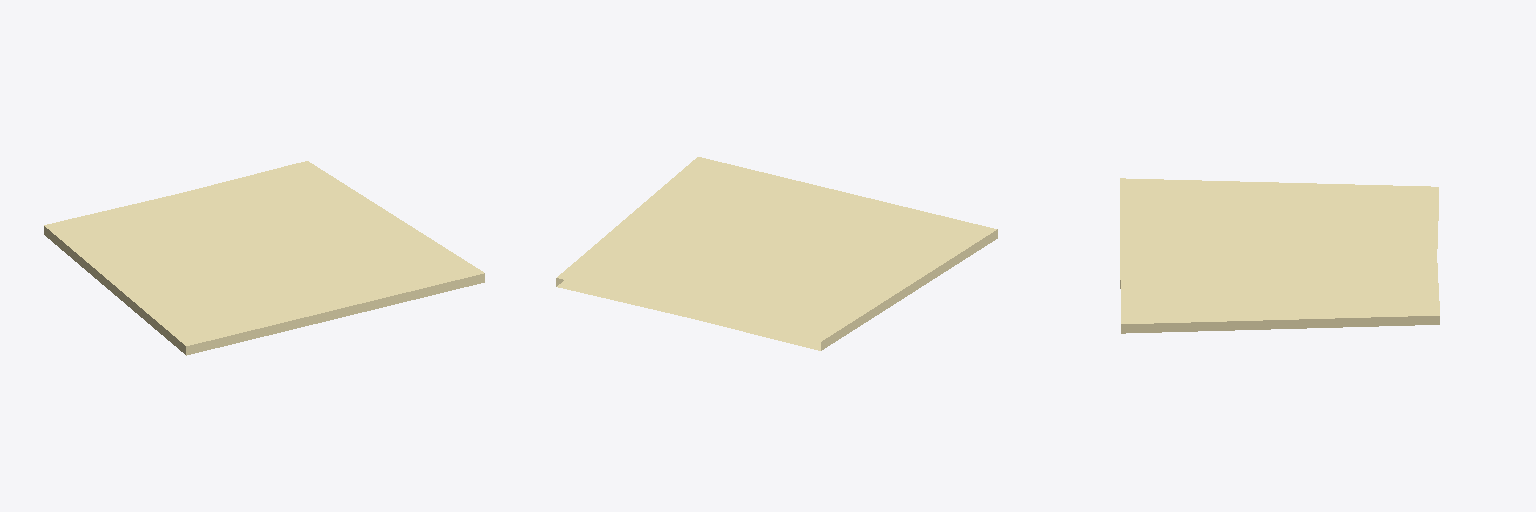
Rendered from seat.obj.
The picture shows the model from 3 angles: view 1: azimuth 30°, elevation 25°; view 2: azimuth 150°, elevation 25°; view 3: azimuth 270°, elevation 25°; orthographic projection.
Parts seen in each view (by area): view 1: seat; view 2: seat; view 3: seat.
Part boxes in pixels (x1,y1,x2,y2): seat: (44,161,484,355); seat: (556,157,997,350); seat: (1120,178,1439,333).
Size of the model in its own units: 17 by 0.5 by 15.73.